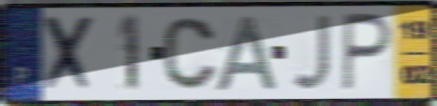1: (116, 12, 141, 96)
A: (212, 13, 282, 93)
C: (160, 15, 221, 92)
J: (289, 12, 333, 93)
P: (339, 10, 395, 94)
X: (40, 13, 97, 96)
